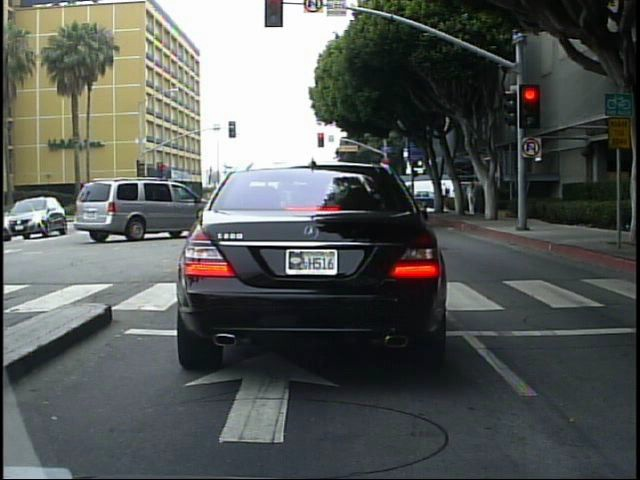person: (630, 166, 639, 280), (631, 166, 639, 288), (464, 180, 479, 219), (437, 179, 453, 214)
